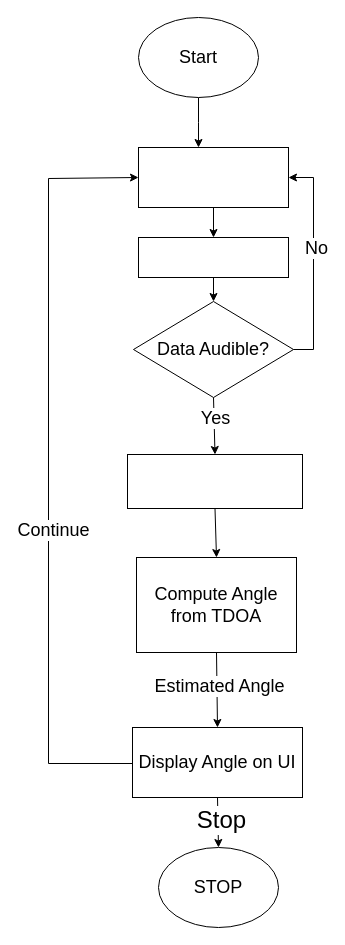
Some shapes in this 345 by 945 pixel diagram are drawn without their labels. Each missing label, with the centre of its shape:
Capture Audio and Split: the point at 213,177
Filter Noise: the point at 213,257
TDOA Estimation: the point at 214,481
